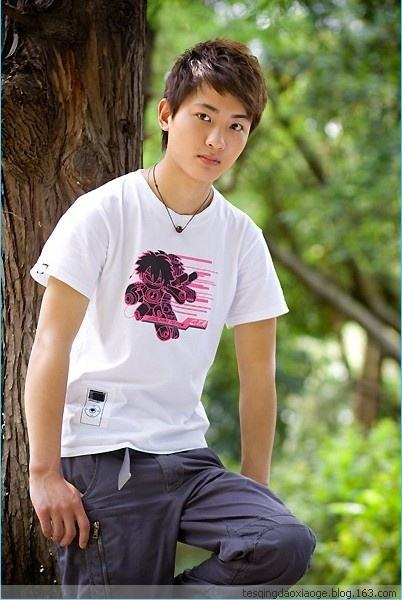person: (23, 19, 319, 507)
